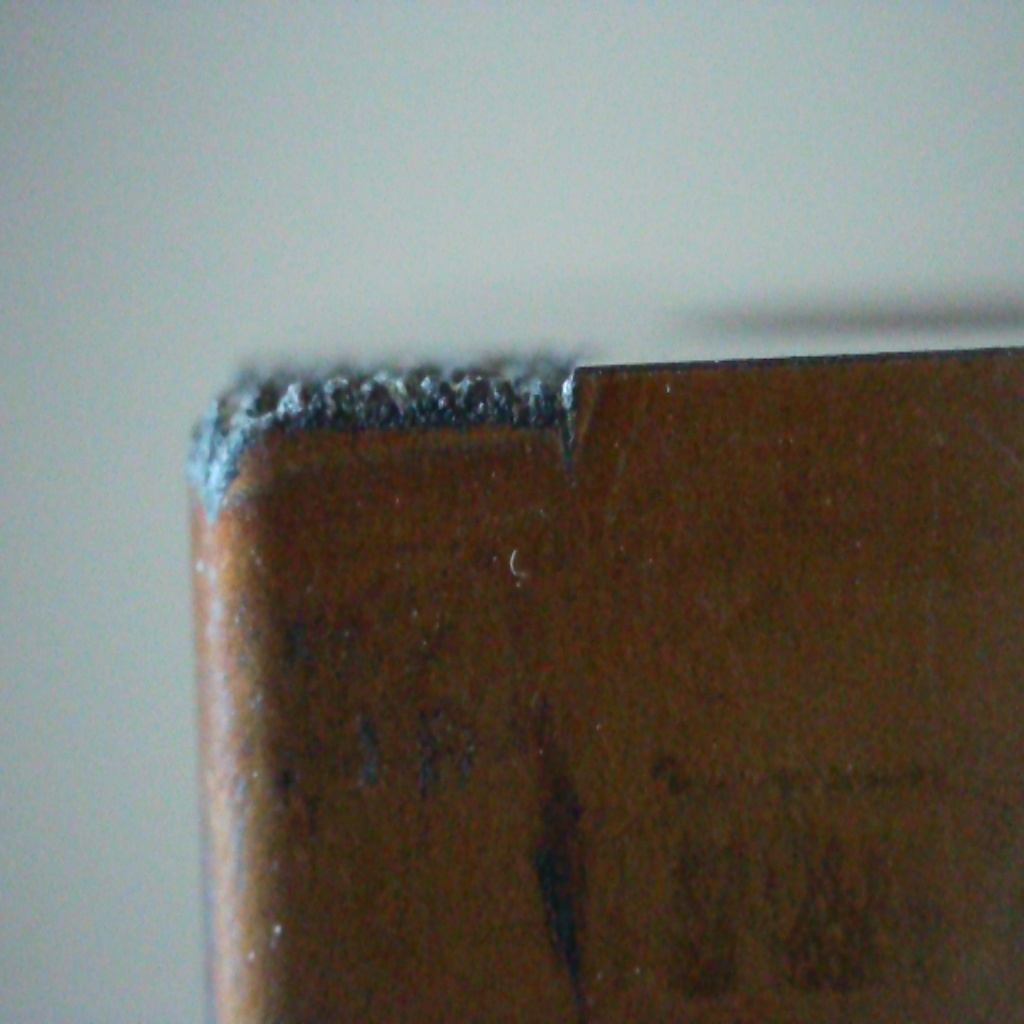flank_wear: (182, 346, 599, 493)
